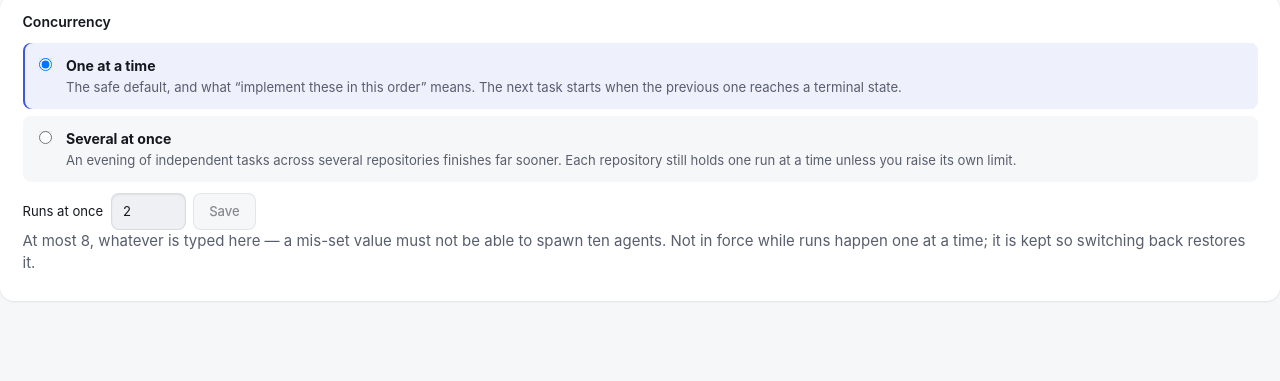
Test: ConcurrencySection › puts the mode back and shows the message when the write is rejected
Click the radio button labelled "Several at once" at (45, 138), box [39,131,52,144]
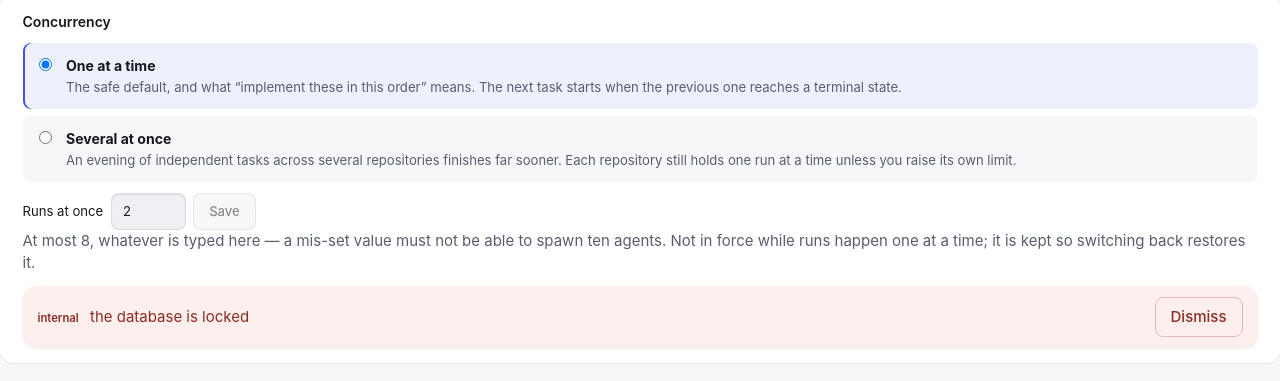
Expected: the radio button labelled "One at a time" is checked, [39,58,52,71]
Expected: the message shows "the database is locked", [90,307,249,326]
